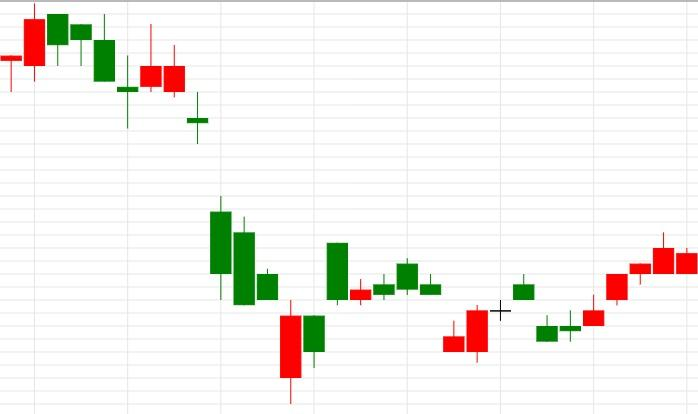morning_star_rise: (46, 13, 163, 128)
